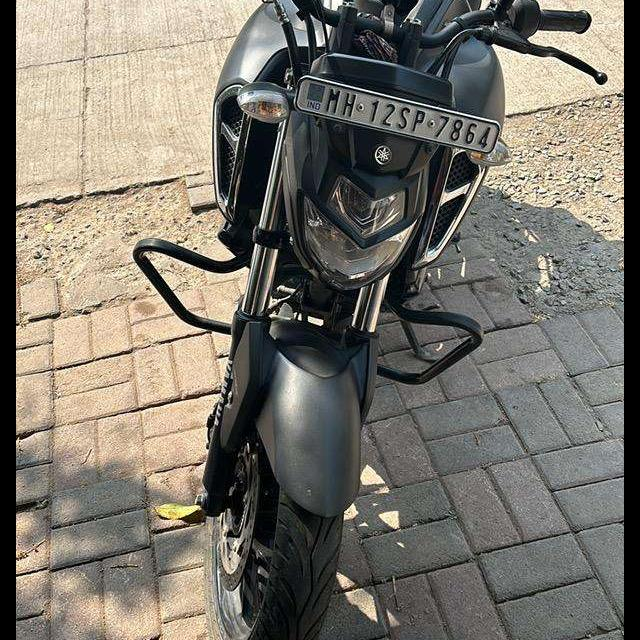Indian_Number_Plate: (295, 74, 501, 154)
